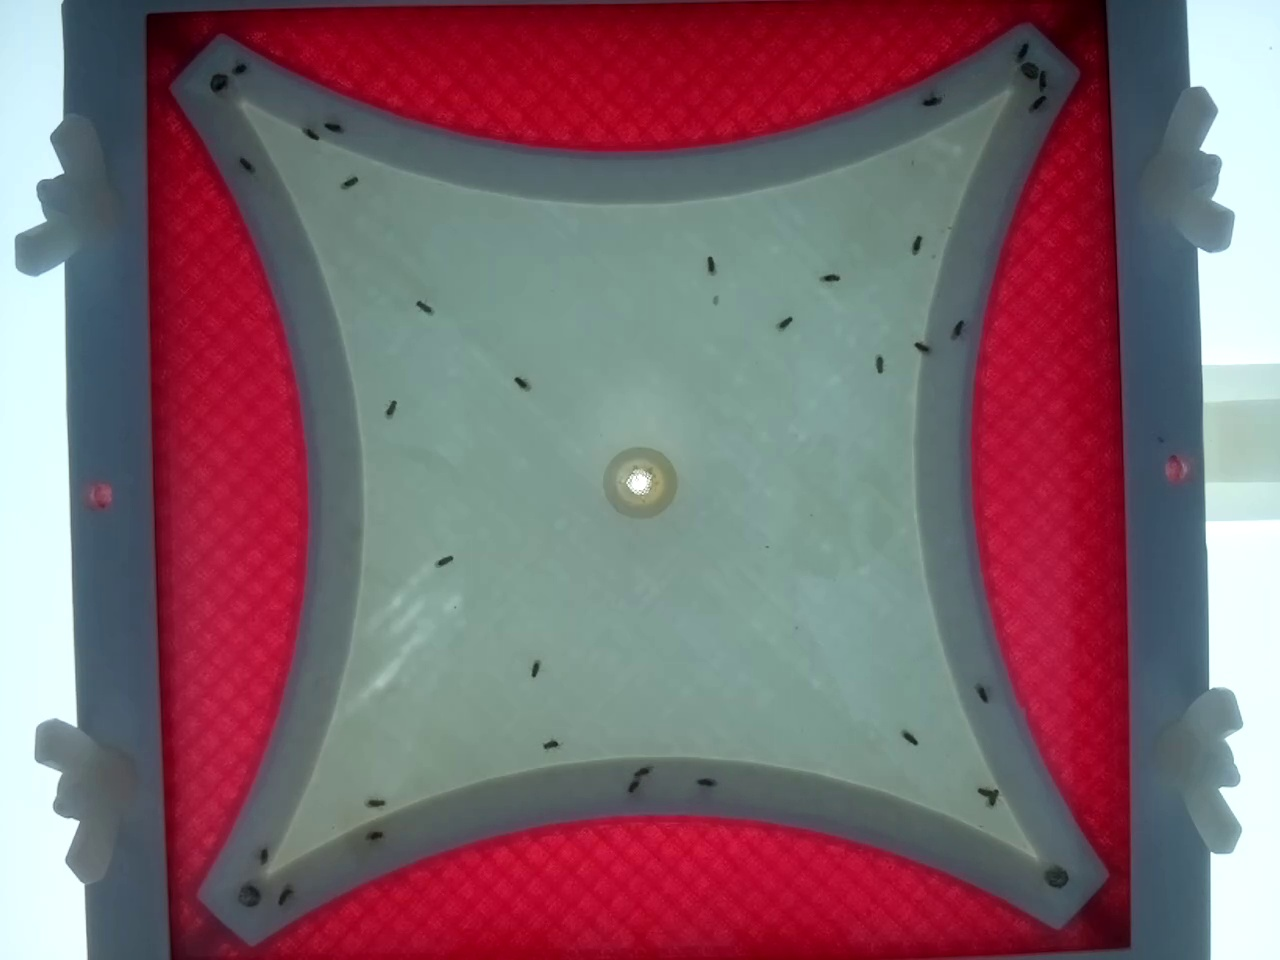fly: (230, 148, 255, 173), (1026, 70, 1051, 95), (904, 231, 929, 256), (771, 311, 796, 336), (1026, 90, 1051, 115), (915, 88, 940, 113), (910, 334, 935, 359), (867, 350, 892, 375), (508, 370, 533, 395), (896, 724, 921, 749), (970, 684, 995, 709), (538, 732, 563, 757), (362, 790, 387, 815), (250, 842, 275, 867), (362, 822, 387, 847), (974, 781, 999, 806), (298, 121, 323, 146), (336, 170, 361, 195), (318, 113, 343, 138), (229, 56, 254, 81), (698, 252, 723, 277), (818, 265, 843, 290), (1011, 38, 1036, 63), (411, 294, 436, 319), (945, 315, 970, 340), (378, 396, 403, 421), (523, 655, 548, 680), (431, 548, 456, 573), (626, 759, 651, 784), (616, 774, 641, 799), (271, 883, 296, 908), (688, 769, 713, 794)
